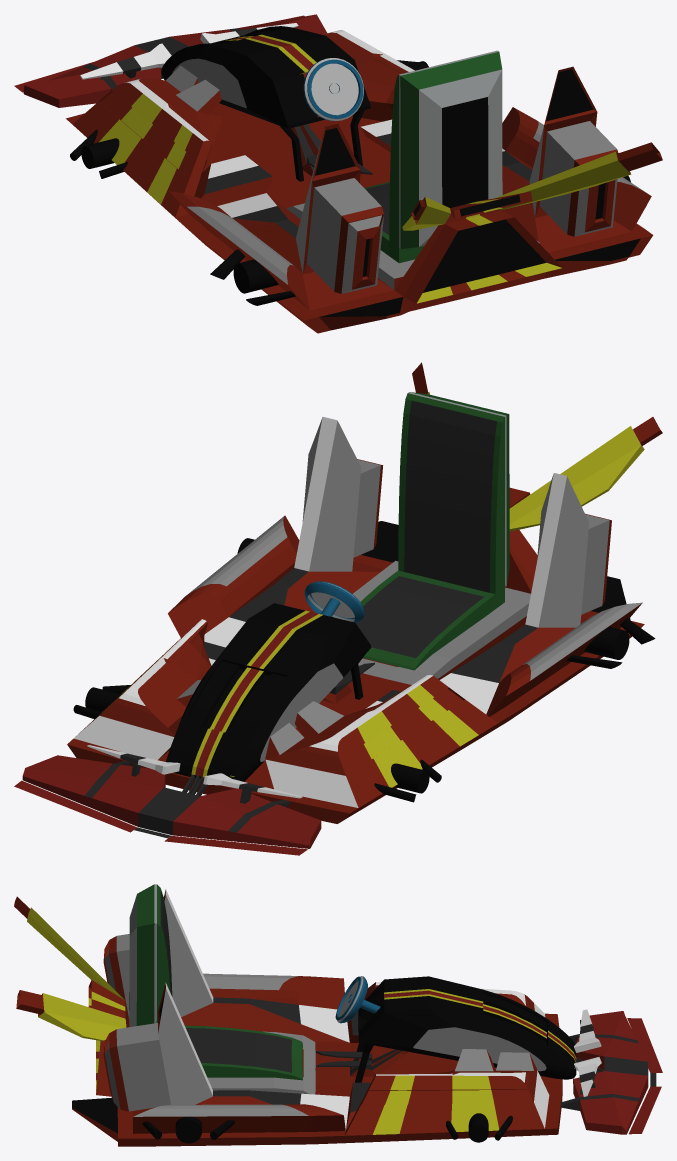
File: kart.fbx
3 views of the same model, one above another, from view 1: azimuth 30°, elevation 25°; view 2: azimuth 150°, elevation 25°; view 3: azimuth 270°, elevation 25° (orthographic). The views are drawn at different scales.
Visible parts, largest first — view 1: kart; view 2: kart; view 3: kart.
Part boxes in pixels (x1,y1,x2,y2): kart: [14, 14, 662, 333]; kart: [14, 362, 662, 855]; kart: [14, 884, 662, 1146].
Bounding box in the file's own units: 2221 × 1146 × 3814.
